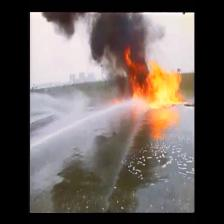fire: (132, 68, 181, 102)
smoke: (94, 14, 144, 53)
